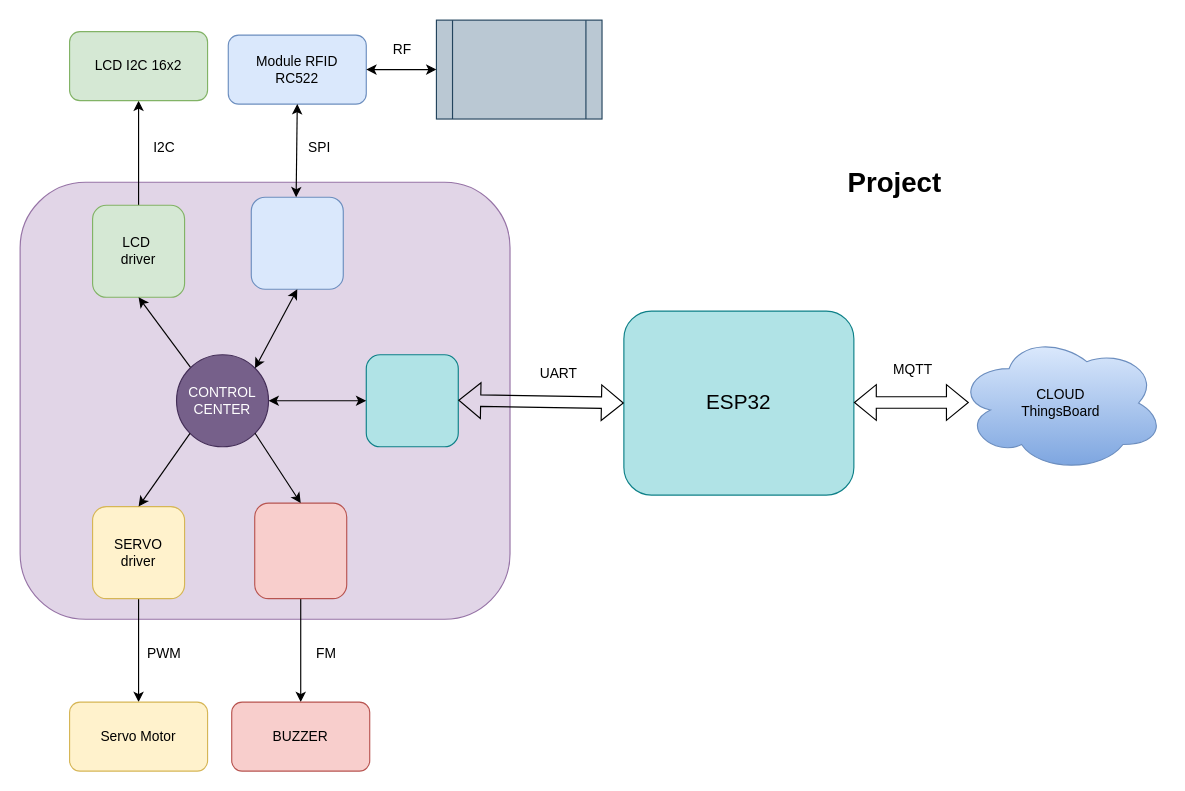
This 1185x791 diagram has some shape labels left out. Here are the shapes that lost their labels. From the top down, the centre of each, then its label:
At pixel 518 69: "RFID CARD".
At pixel 296 242: "RC522 driver".
At pixel 411 400: "UART driver".
At pixel 300 550: "BUZZER driver".
